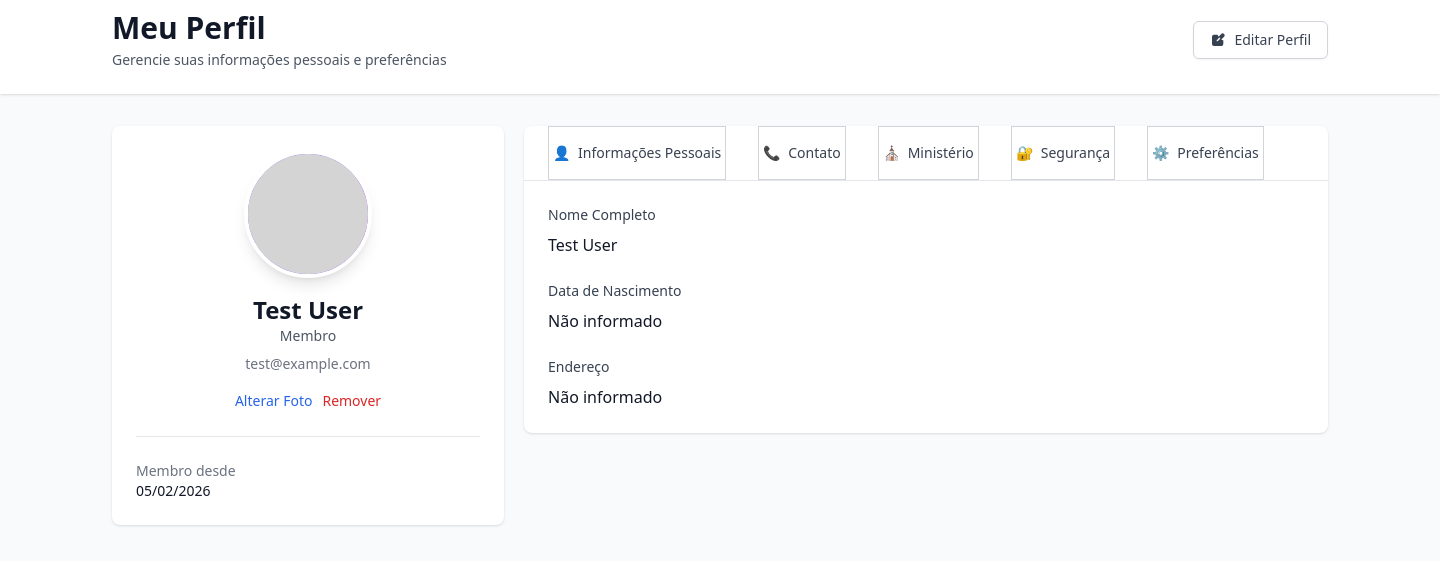
Test: ProfilePage › Edit Mode › should enter edit mode when edit button clicked
The image size is (1440, 561).
Click the button "Editar Perfil".
click(1261, 40)  # box [1194,21,1328,59]
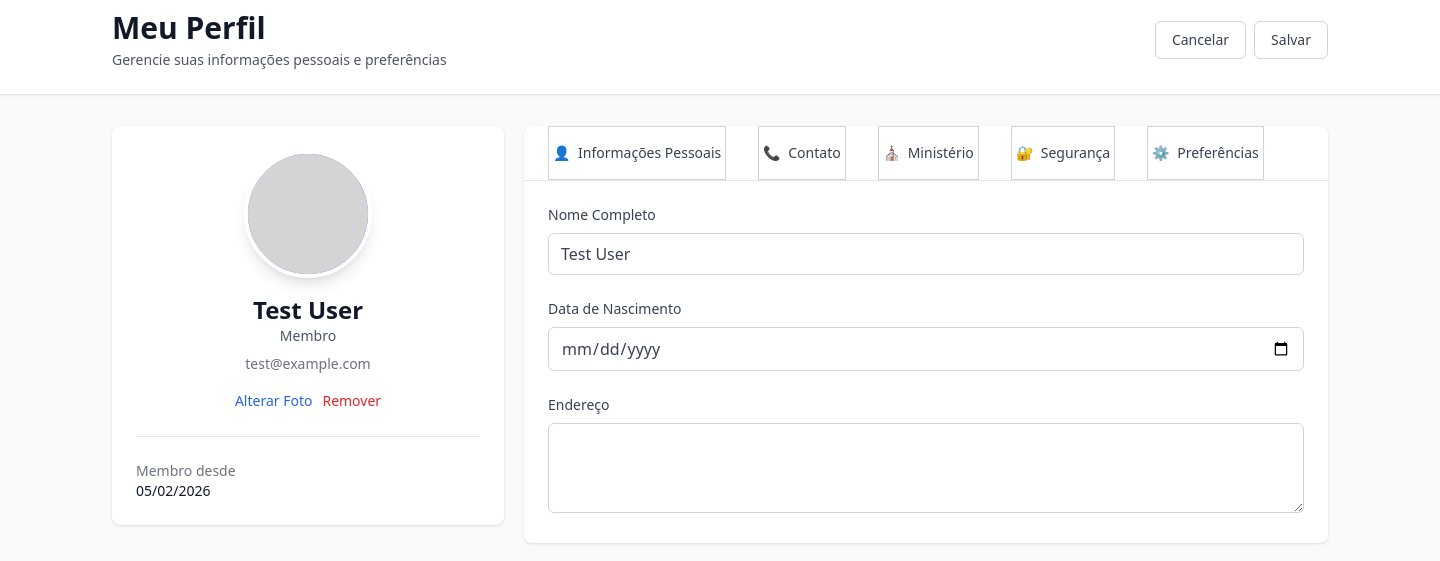
Result: the button "Cancelar" is shown at [1155,21,1246,59]
Result: the button "Salvar" is shown at [1254,21,1328,59]
